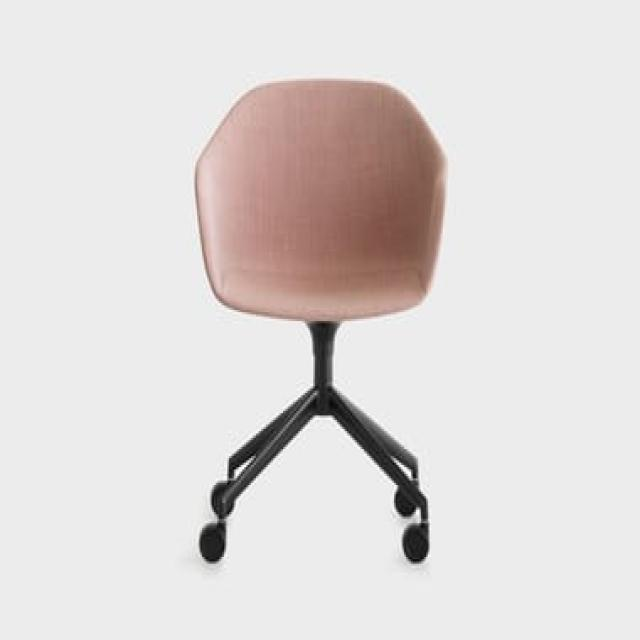chair: (109, 54, 488, 640)
